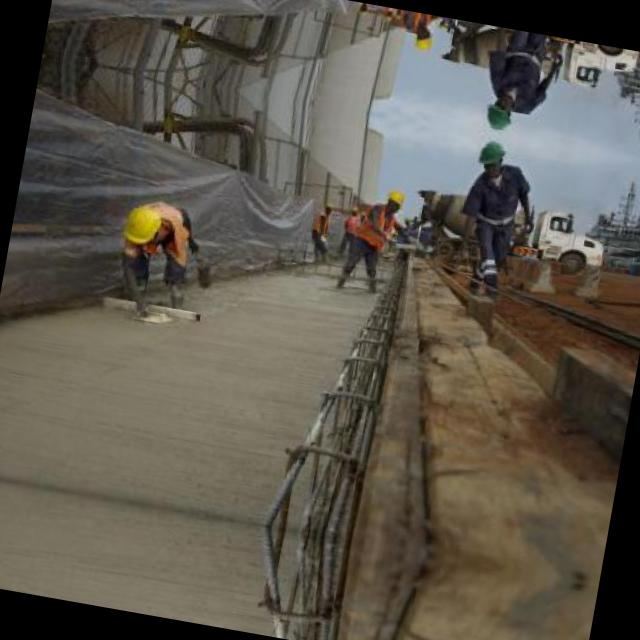helmet: (114, 196, 170, 257), (474, 133, 514, 180), (482, 88, 522, 135), (384, 186, 405, 214), (413, 23, 434, 50)
